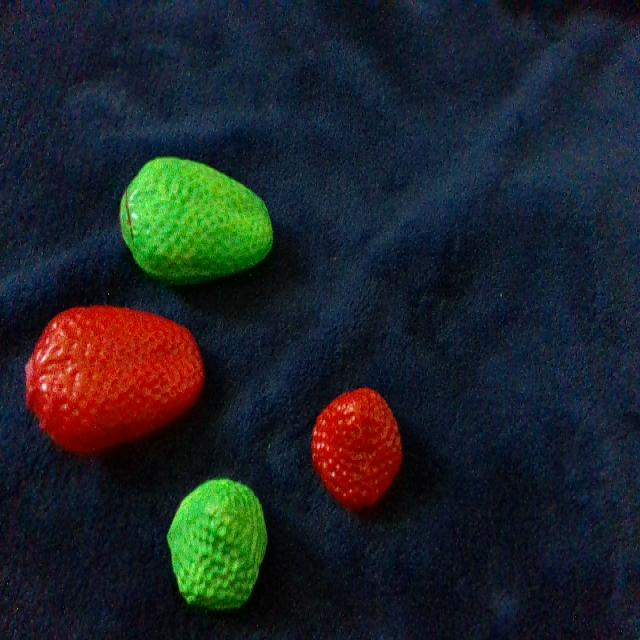chica_roja: (312, 388, 401, 508)
grande_roja: (28, 307, 203, 452)
verde: (120, 157, 272, 283), (167, 479, 266, 609)
